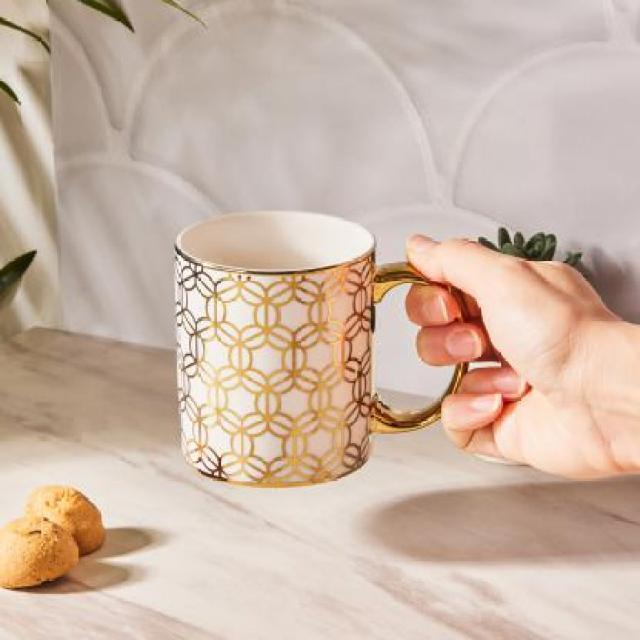taza: (174, 211, 476, 482)
